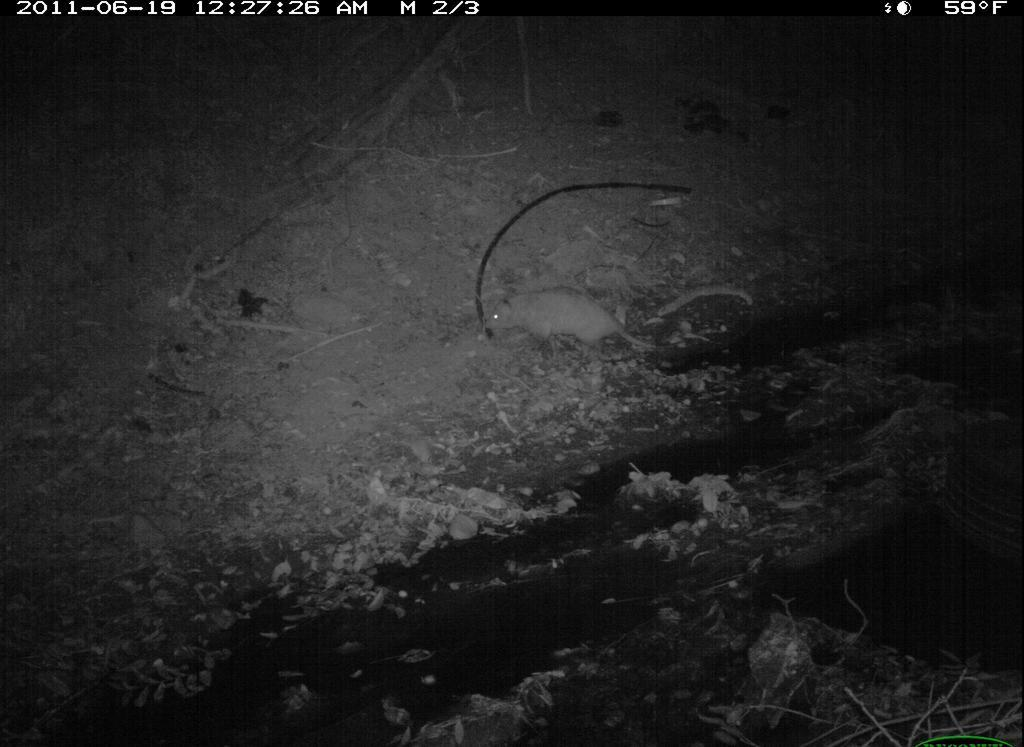opossum: (470, 273, 699, 379)
